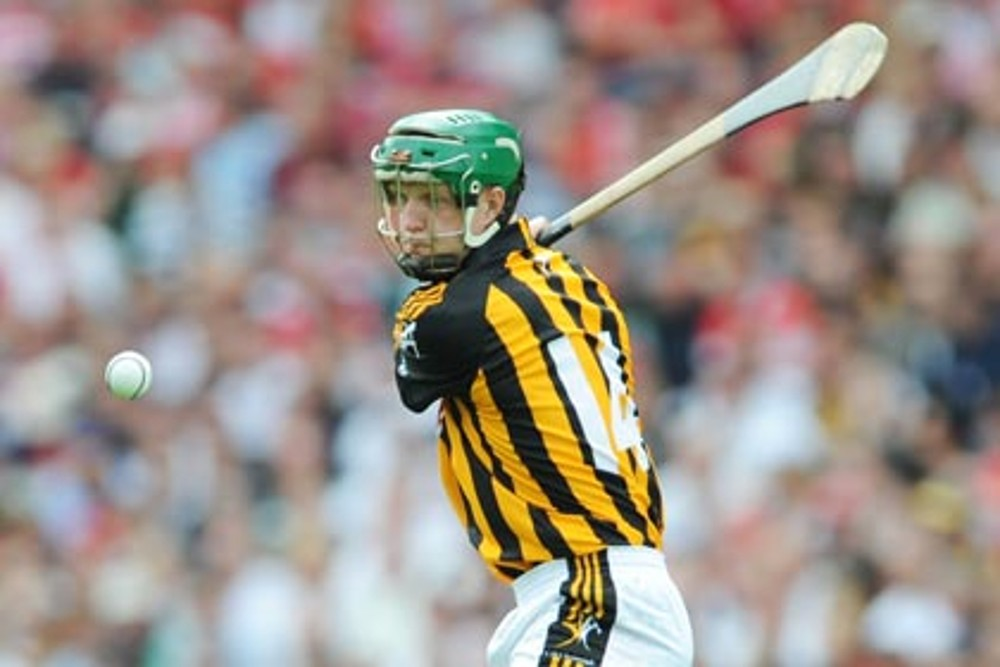hurley: (532, 19, 890, 248)
